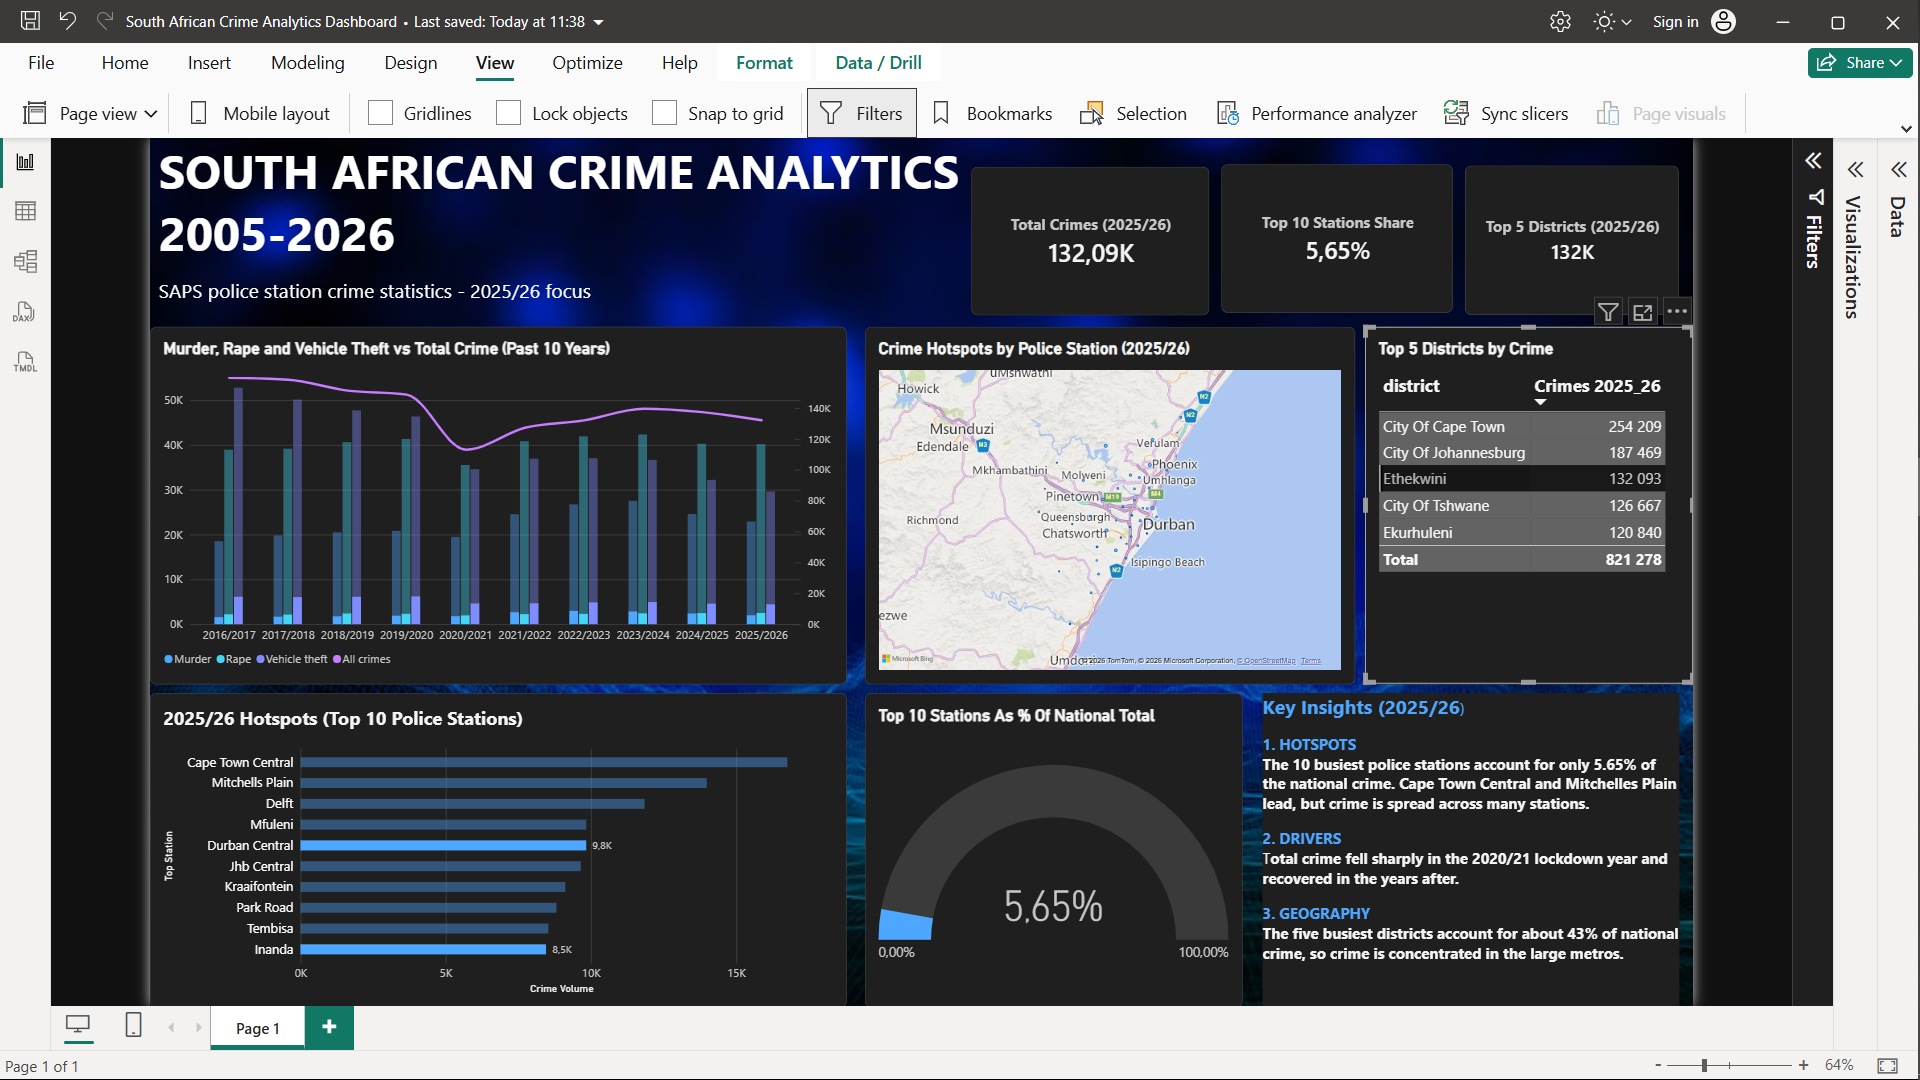

Layout of this report page (visuals, bound fields, positions):
{"tool":"powerbi","page":{"name":"Page 1","canvas":[1920,1080],"ordinal":0},"visuals":[{"type":"textbox","box":[10.3,0,1321.4,253.2],"z":0},{"type":"group","id":"g1","title":"Group 1","box":[1022,36,296,186],"z":1000},{"type":"clusteredBarChart","title":"2025/26 Hotspots (Top 10 Police Stations)","fields":{"Category":["sapacr-2005-2026-v1 5.station"],"Y":["_Measures.Crimes 2025_26"]},"box":[0,689.5,866.6,391.1],"z":2000},{"type":"cardVisual","fields":{"Data":["_Measures.Crimes 2025_26"]},"box":[1022,36,296.4,185.2],"z":3000,"group":"g1"},{"type":"gauge","title":"Top 10 Stations As % Of National Total","fields":{"Y":["_Measures.Top 10 % Share"]},"box":[889.2,689.5,469.3,391.1],"z":3000},{"type":"lineClusteredColumnComboChart","title":"Murder, Rape and Vehicle Theft vs Total Crime (Past 10 Years)","fields":{"Category":["sapacr-2005-2026-v1 5.year"],"Y":["Sum(sapacr-2005-2026-v1 5.murder)","Sum(sapacr-2005-2026-v1 5.rape)","Sum(sapacr-2005-2026-v1 5.vehicle_theft)"],"Y2":["_Measures.Total Crimes"]},"box":[0,234.6,866.6,444.6],"z":4000},{"type":"map","title":"Crime Hotspots by Police Station (2025/26)","fields":{"Category":["sapacr-2005-2026-v1 5.station"],"Size":["_Measures.Crimes 2025_26"],"X":["Avg(sapacr-2005-2026-v1 5.longitude)"],"Y":["Avg(sapacr-2005-2026-v1 5.latitude)"]},"box":[889.2,234.6,609.3,444.6],"z":5000},{"type":"tableEx","title":"Top 5 Districts by Crime","fields":{"Values":["sapacr-2005-2026-v1 5.district","_Measures.Crimes 2025_26"]},"box":[1510.8,234.6,409.6,444.6],"z":6000},{"type":"cardVisual","fields":{"Data":["_Measures.Top 10 % Share"]},"box":[1332,32,288.2,185.2],"z":7000},{"type":"textbox","box":[1384,690,518,390],"z":8000},{"type":"cardVisual","fields":{"Data":["_Measures.Top 5 Districts"]},"box":[1636,34,266,186],"z":9000}]}

Visuals, with their boxes on the page's 1920x1080 design canvas (x1, y1, x2, y2). These are canvas units, not pixel positions in the 1920x1080 screenshot, which may show the page scaled, cropped or inside an application window:
textbox: <box>10,0,1332,253</box>
"Group 1" group: <box>1022,36,1318,222</box>
"2025/26 Hotspots (Top 10 Police Stations)" clusteredBarChart: <box>0,690,867,1081</box>
cardVisual - _Measures.Crimes 2025_26: <box>1022,36,1318,221</box>
"Top 10 Stations As % Of National Total" gauge: <box>889,690,1358,1081</box>
"Murder, Rape and Vehicle Theft vs Total Crime (Past 10 Years)" lineClusteredColumnComboChart: <box>0,235,867,679</box>
"Crime Hotspots by Police Station (2025/26)" map: <box>889,235,1498,679</box>
"Top 5 Districts by Crime" tableEx: <box>1511,235,1920,679</box>
cardVisual - _Measures.Top 10 % Share: <box>1332,32,1620,217</box>
textbox: <box>1384,690,1902,1080</box>
cardVisual - _Measures.Top 5 Districts: <box>1636,34,1902,220</box>
